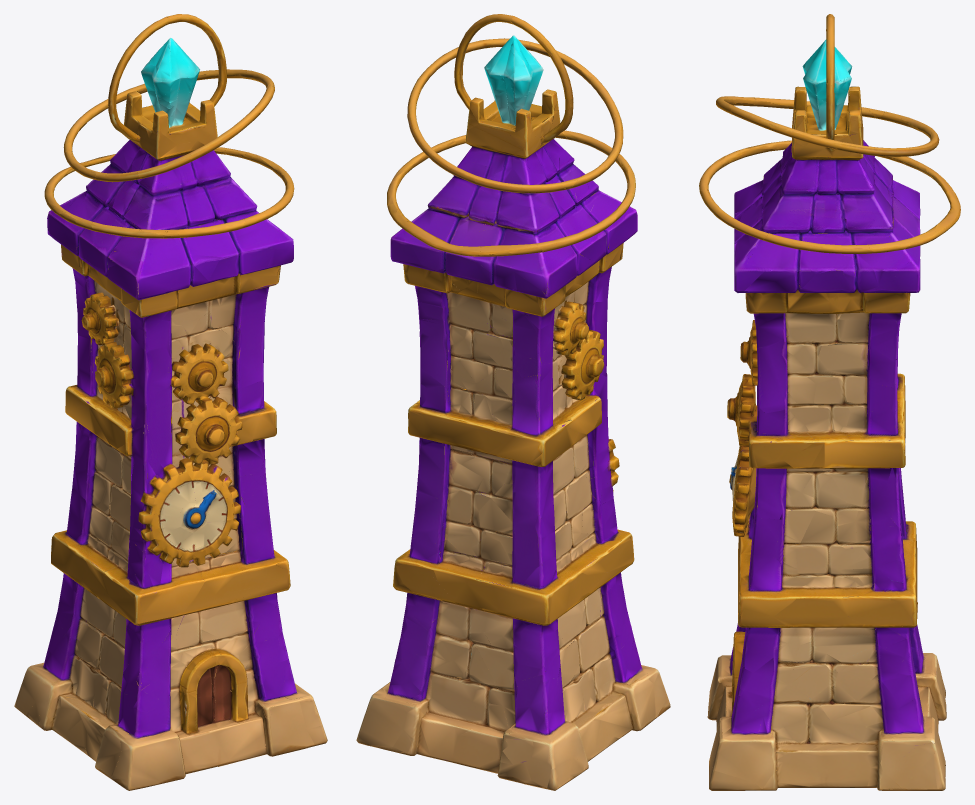
File: torre-numeros.glb
The picture shows the model from 3 angles, left to right: view 1: azimuth 30°, elevation 25°; view 2: azimuth 150°, elevation 25°; view 3: azimuth 270°, elevation 25°; orthographic projection. The views are drawn at different scales.
Visible parts, largest first — view 1: Mesh_0; view 2: Mesh_0; view 3: Mesh_0.
Boxes of the visible parts, x1,y1,x2,y2 form: Mesh_0: [14, 14, 327, 790]; Mesh_0: [356, 14, 670, 790]; Mesh_0: [699, 14, 960, 790].
Size of the model in its own units: 0.6016 by 1.9 by 0.6239.
1 material, 1 textured.
